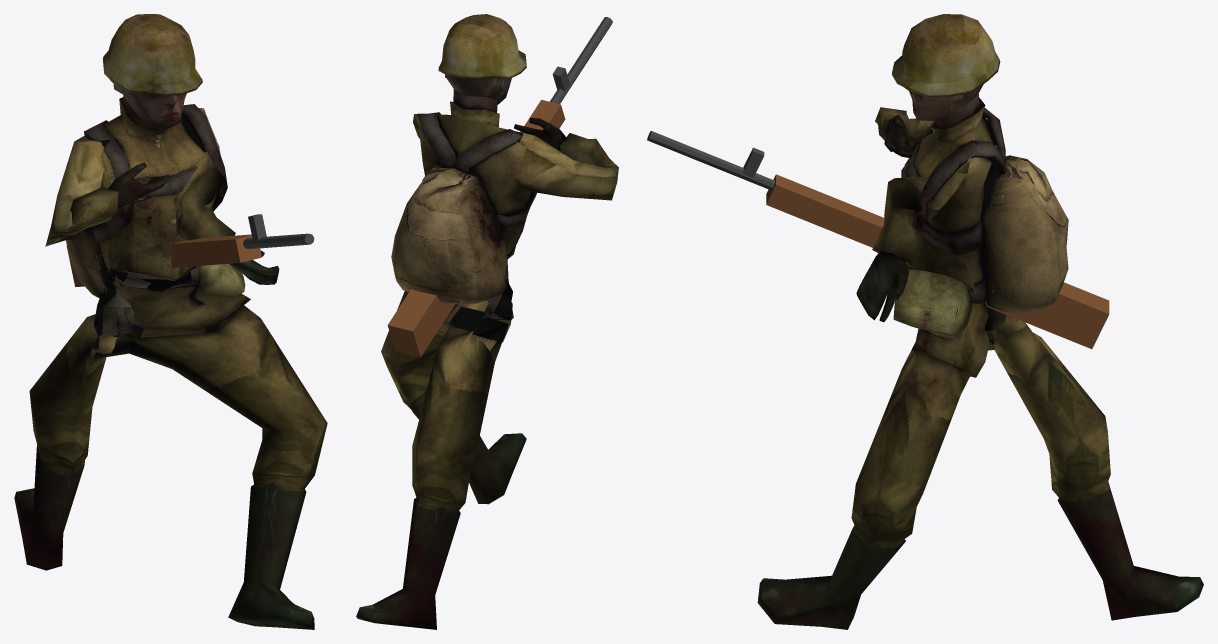
Rendered from soviet_ww2_soldier_run_01.glb.
3 views of the same model, side by side, from view 1: azimuth 30°, elevation 25°; view 2: azimuth 150°, elevation 25°; view 3: azimuth 270°, elevation 25° (orthographic). The views are drawn at different scales.
Visible parts, largest first — view 1: final_Static, SovietRifle_Generated; view 2: final_Static, SovietRifle_Generated; view 3: final_Static, SovietRifle_Generated.
Part boxes in pixels (x1,y1,x2,y2): final_Static: [14, 14, 327, 629]; SovietRifle_Generated: [66, 214, 314, 286]; final_Static: [356, 14, 618, 629]; SovietRifle_Generated: [387, 17, 612, 357]; final_Static: [757, 14, 1203, 629]; SovietRifle_Generated: [647, 131, 1109, 349].
Size of the model in its own units: 0.7638 by 1.66 by 1.38.
3 materials, 1 textured.
